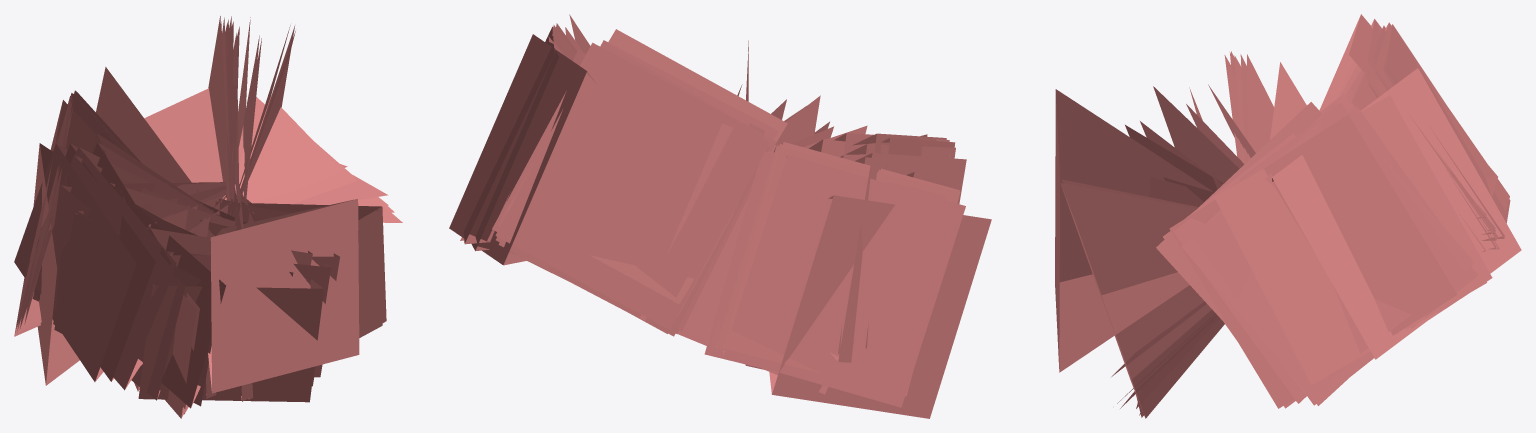
The picture shows the model from 3 angles, left to right: view 1: azimuth 30°, elevation 25°; view 2: azimuth 150°, elevation 25°; view 3: azimuth 270°, elevation 25°; orthographic projection. The views are drawn at different scales.
Visible parts, largest first — view 1: cam_00, cam_41, cam_12, cam_51, cam_36, cam_08, cam_42, cam_37, cam_27, cam_14, cam_40, cam_45 (+29 smaller); view 2: cam_48, cam_35, cam_27, cam_01, cam_49, cam_51, cam_41, cam_37, cam_29, cam_31, cam_30, cam_02 (+13 smaller); view 3: cam_02, cam_04, cam_00, cam_01, cam_13, cam_06, cam_05, cam_09, cam_21, cam_14, cam_48, cam_08 (+16 smaller).
Part boxes in pixels (x1,y1,x2,y2): cam_00: (208,199,359,393); cam_41: (14,143,136,381); cam_12: (138,234,323,402); cam_51: (144,21,233,215); cam_36: (109,183,235,408); cam_08: (239,97,342,201); cam_42: (24,155,174,390); cam_37: (96,67,203,199); cam_27: (33,143,79,385); cam_14: (241,205,382,401); cam_40: (65,143,155,381); cam_45: (32,185,185,400); cam_48: (495,49,769,329); cam_35: (723,155,965,407); cam_27: (769,195,991,418); cam_01: (449,34,597,265); cam_49: (492,42,763,320); cam_51: (508,29,787,304); cam_41: (830,153,966,362); cam_37: (640,123,827,394); cam_29: (704,151,945,371); cam_31: (723,144,958,373); cam_30: (768,149,960,396); cam_02: (463,26,554,244); cam_02: (1214,95,1486,385); cam_04: (1169,114,1457,408); cam_00: (1055,89,1213,372); cam_01: (1272,68,1521,359); cam_13: (1060,183,1224,418); cam_06: (1183,104,1473,405); cam_05: (1173,103,1464,402); cam_09: (1192,106,1478,405); cam_21: (1111,86,1239,376); cam_14: (1062,179,1223,417); cam_48: (1386,24,1510,238); cam_08: (1156,102,1322,403).
Bounding box in the file's own units: 0.7683 × 0.5956 × 0.7026.
